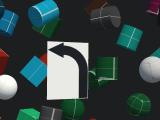Left: (47, 41, 89, 100)
